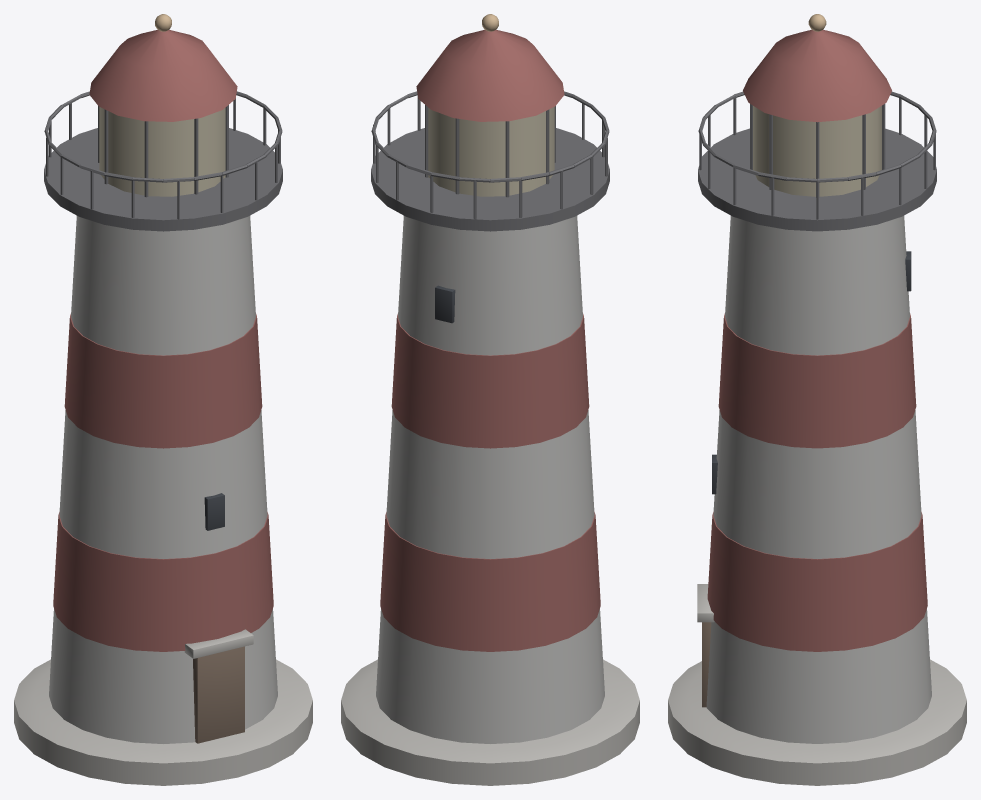
Rendered from quest_lighthouse.gltf.
3 renders of one model, left to right at view 1: azimuth 30°, elevation 25°; view 2: azimuth 150°, elevation 25°; view 3: azimuth 270°, elevation 25°, orthographic.
Visible parts, largest first — view 1: Body, Glow; view 2: Body, Glow; view 3: Body, Glow.
Part boxes in pixels (box(x1,y1,x2,y2)): Body: box(14, 14, 312, 785); Glow: box(99, 107, 225, 196); Body: box(341, 14, 639, 785); Glow: box(428, 107, 554, 196); Body: box(668, 14, 966, 785); Glow: box(753, 106, 881, 196).
Bounding box in the file's own units: 6 × 15.68 × 6.
